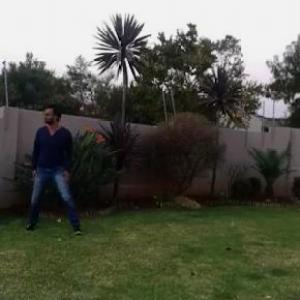follow: (31, 92, 71, 233)
